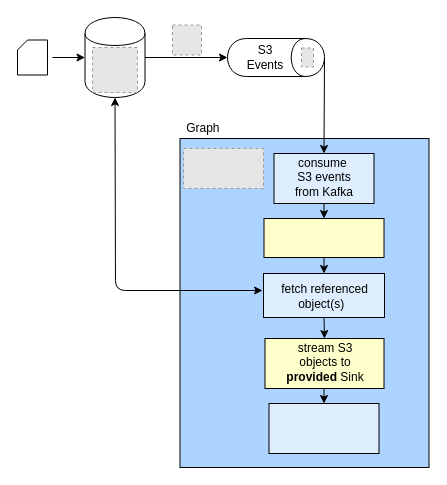
Image size: 447x485. Some labels were removed from this diagram. Grey dashed boxes stand in for pictures. Each missing label, with the centre of its shape:
apply provided s3 events filter: (323,238)
commit S3 events successfully processed: (323,428)
